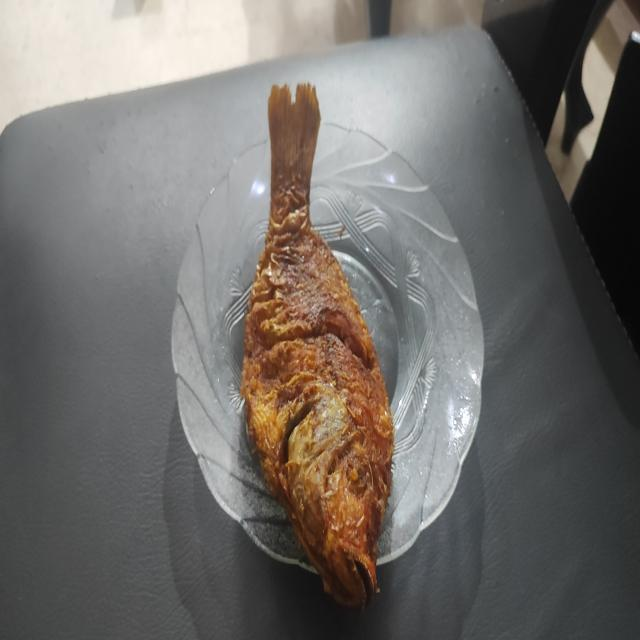ikan_mujair: (241, 83, 394, 606)
